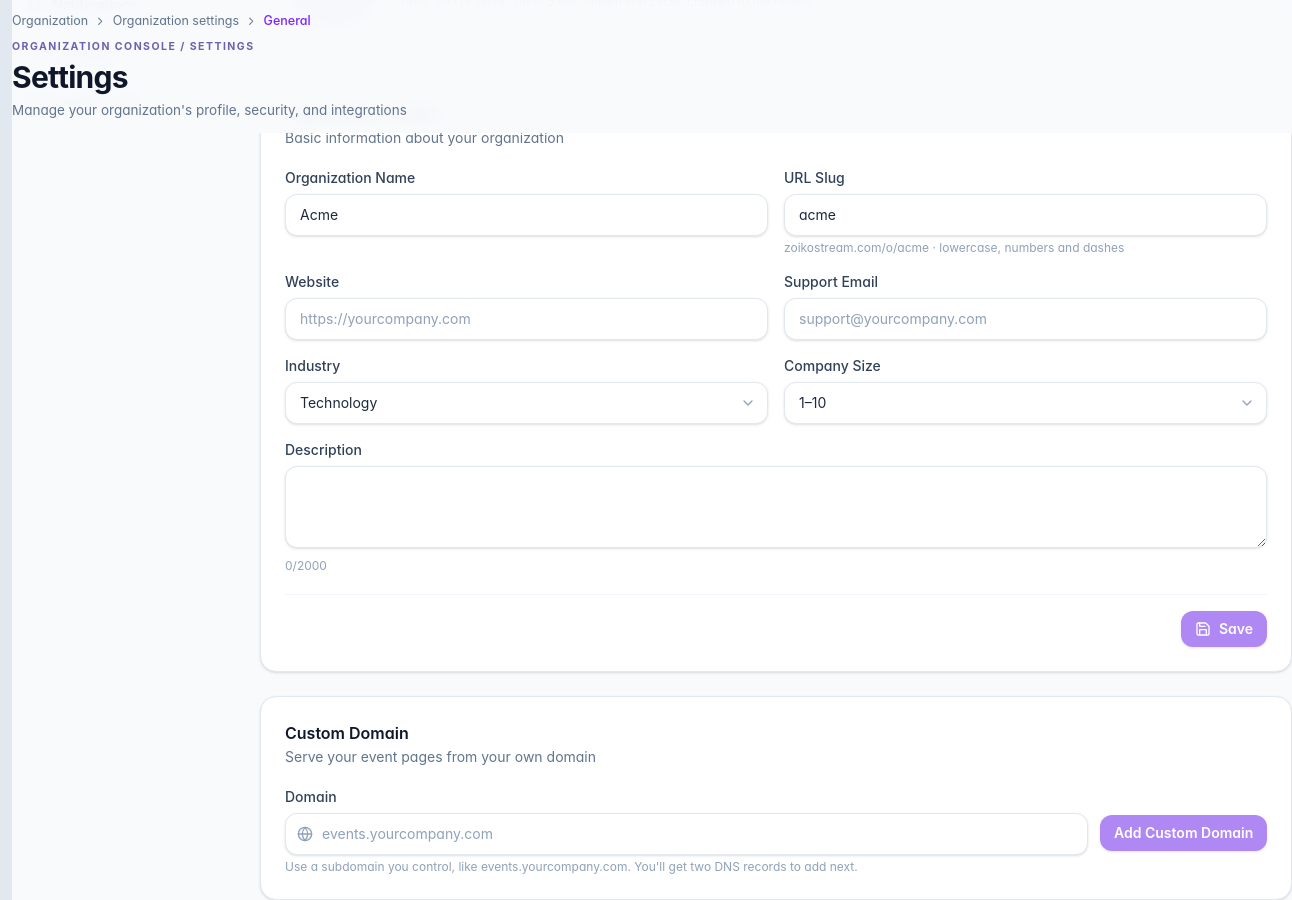
it: with custom domains available › when the hostname is not valid: the server's words, no success, nothing lost, ready to retry
(page scrolled)
Type "https://events.acme.com/x" into the field labelled "Domain".
click(686, 834); type("https://events.acme.com/x")  # box [285, 813, 1088, 855]
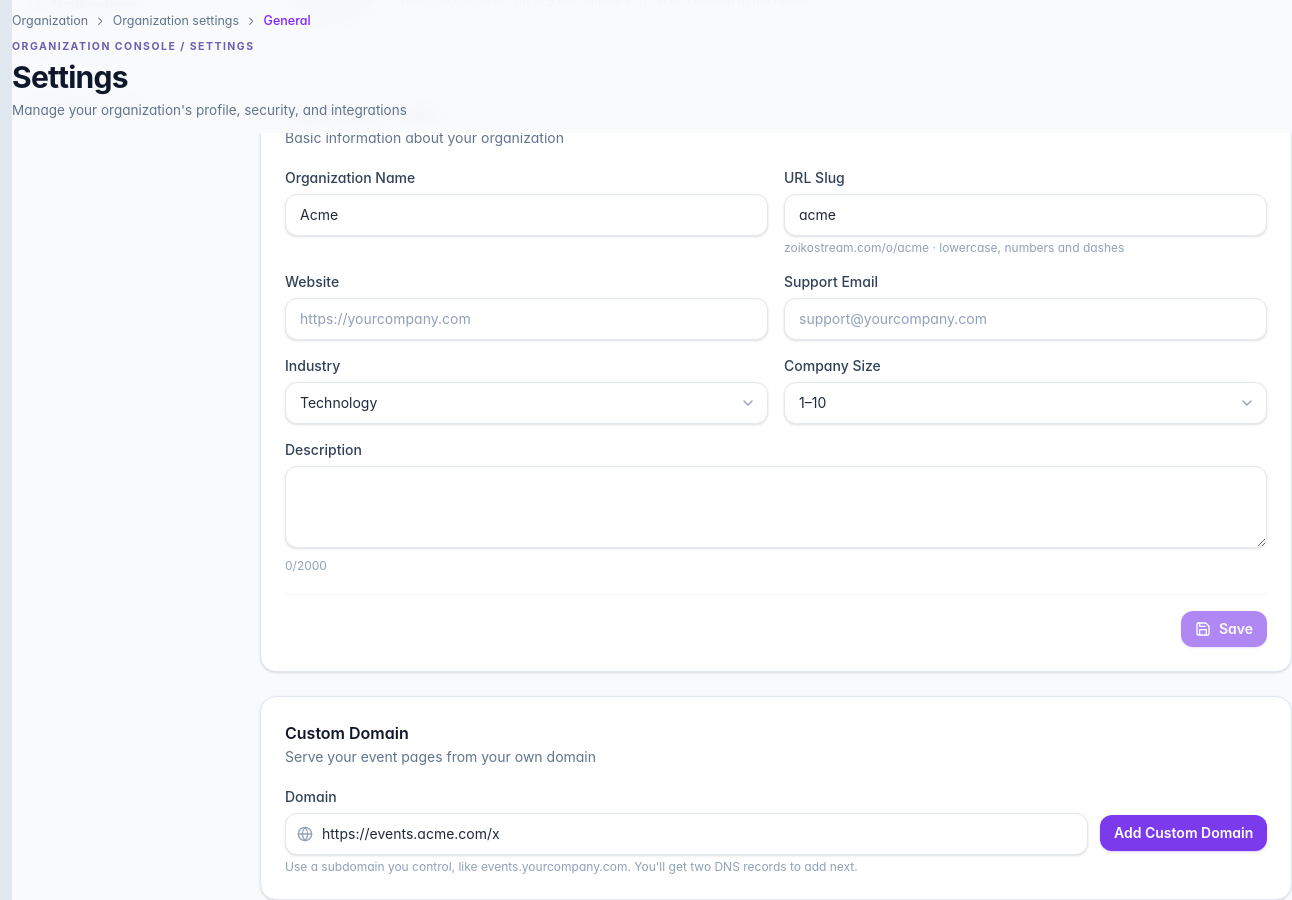
Click the button "Add Custom Domain".
click(1183, 833)  # box [1100, 815, 1267, 851]
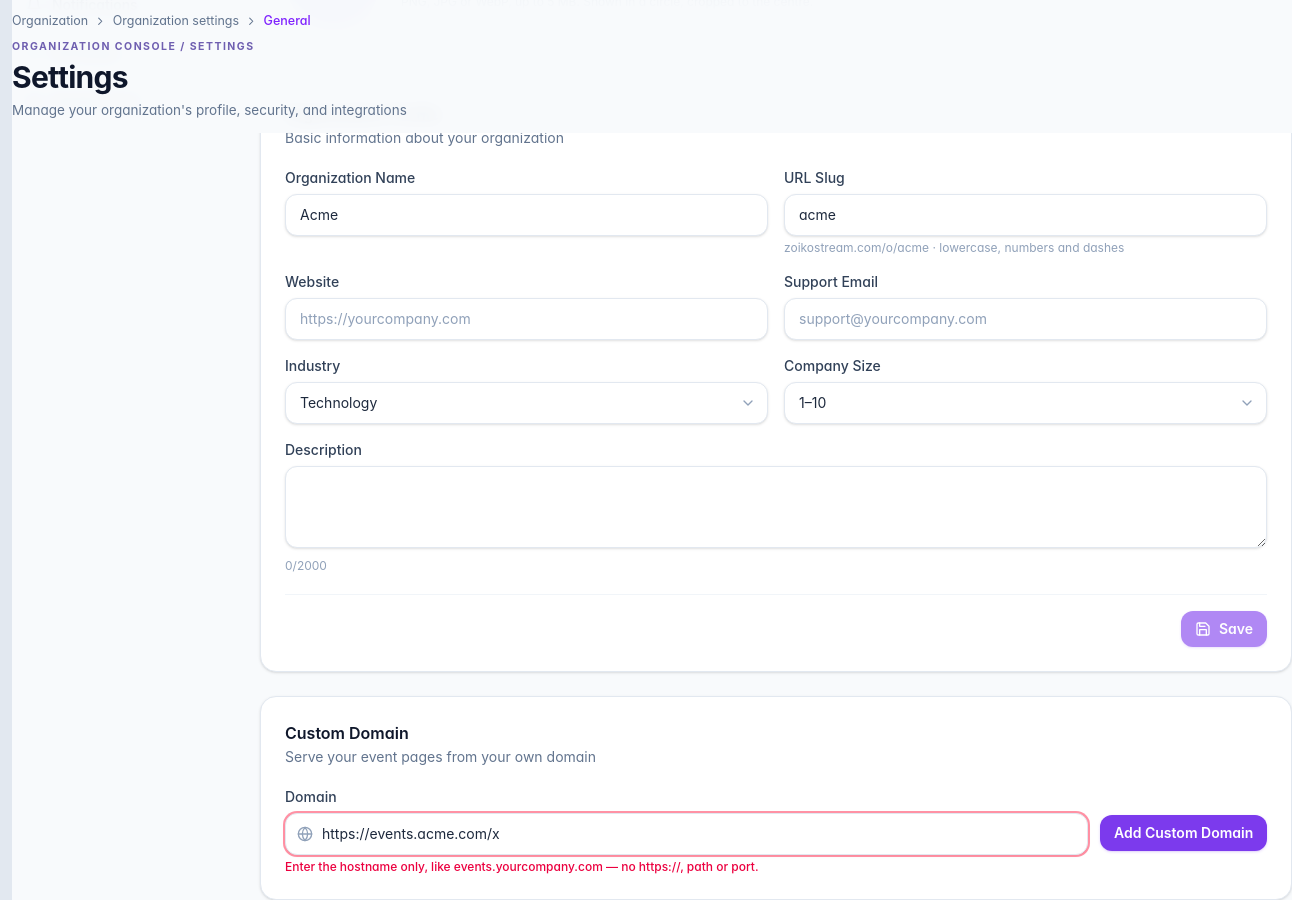
Check: the button "Add Custom Domain" is enabled, box [1100, 815, 1267, 851]
Check: the text "Enter the hostname only, like events.yourcompany.com — no https://, path or port." is shown, box [285, 859, 758, 874]
